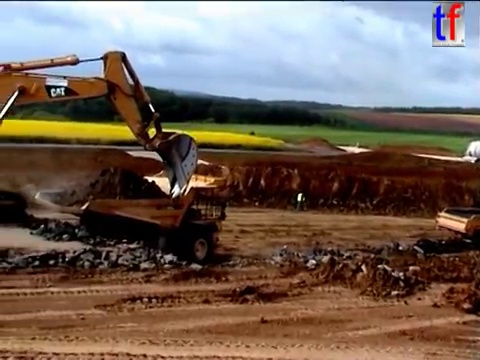excavator: (1, 48, 201, 222)
truck: (32, 160, 238, 268), (433, 204, 480, 254), (462, 138, 480, 165)
worker: (293, 188, 307, 213)
